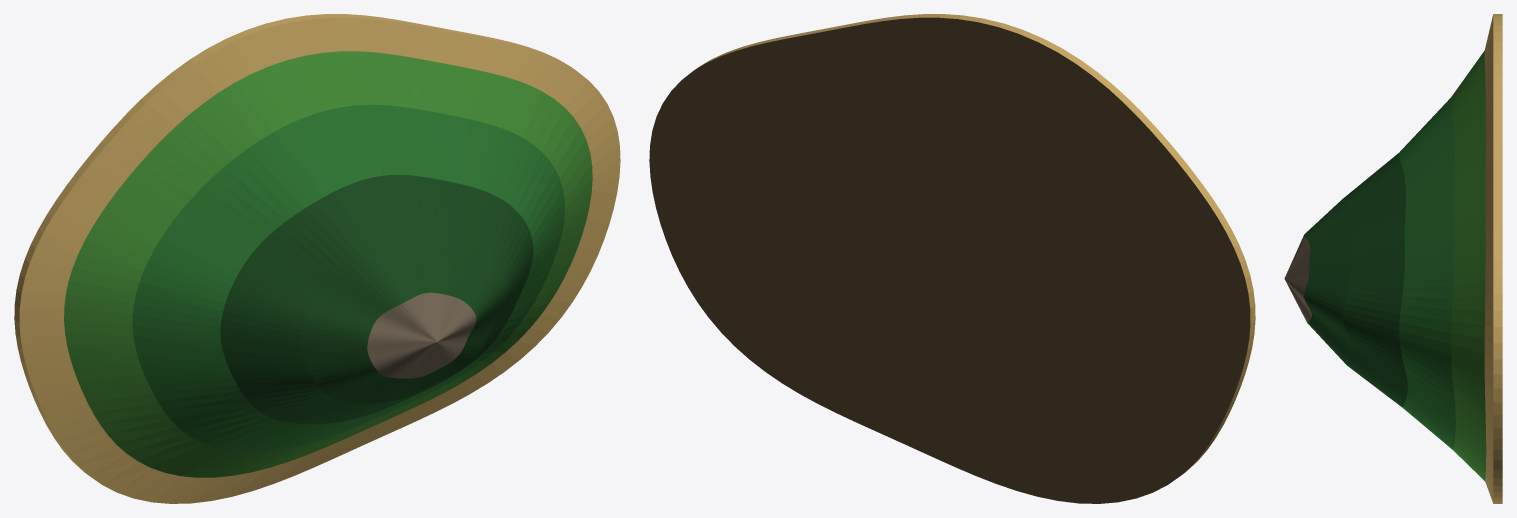
Rendered from clean_single_mountain_probe.obj.
3 views of the same model, side by side, from view 1: azimuth 30°, elevation 25°; view 2: azimuth 150°, elevation 25°; view 3: azimuth 270°, elevation 25° (orthographic). The views are drawn at different scales.
Visible parts, largest first — view 1: lower_grass, green_slope, beach_sand, dark_ridge, summit_rock; view 2: underside_earth, beach_sand; view 3: dark_ridge, green_slope, lower_grass, beach_sand, summit_rock.
Boxes of the visible parts, <box> form: lower_grass: <box>64,51,592,477</box>; green_slope: <box>132,104,564,452</box>; beach_sand: <box>14,14,620,503</box>; dark_ridge: <box>220,175,533,424</box>; summit_rock: <box>367,292,476,378</box>; underside_earth: <box>649,17,1250,503</box>; beach_sand: <box>695,14,1255,474</box>; dark_ridge: <box>1304,153,1407,407</box>; green_slope: <box>1399,98,1455,449</box>; lower_grass: <box>1451,51,1486,481</box>; beach_sand: <box>1484,14,1502,503</box>; summit_rock: <box>1284,235,1311,322</box>.
Bounding box in the file's own units: 133 × 97.5 × 45.8.
